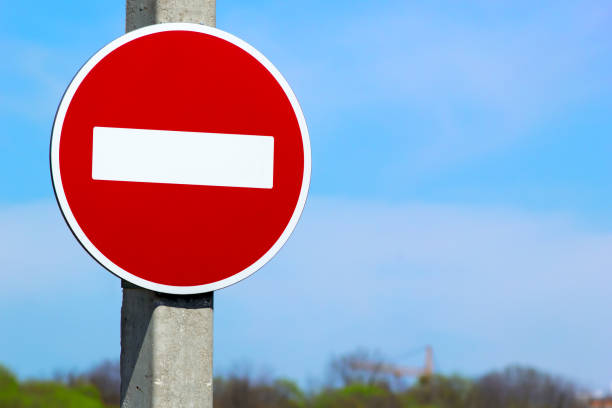Girilmez: (47, 23, 317, 295)
